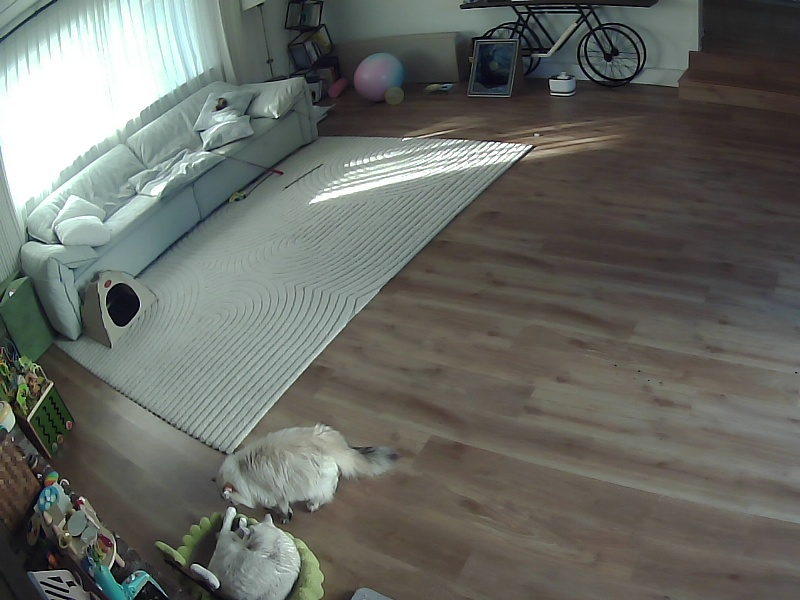Qb-2: (190, 507, 300, 599)
Qbo-2: (216, 424, 397, 522)
